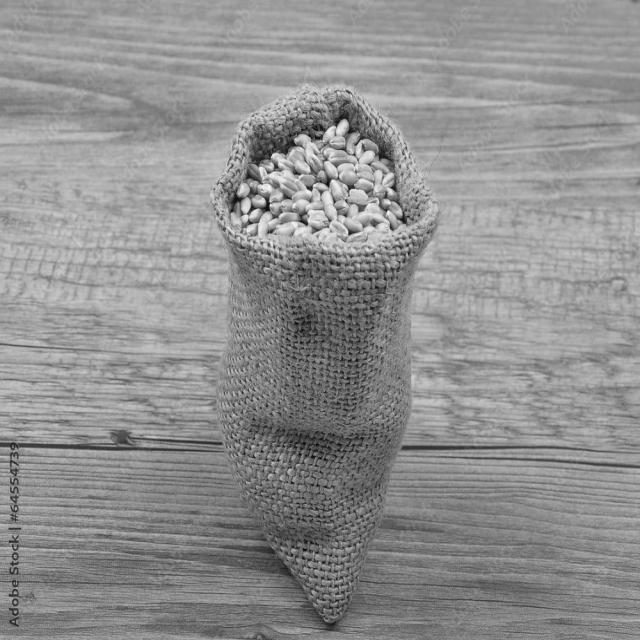sack: (208, 82, 440, 628)
